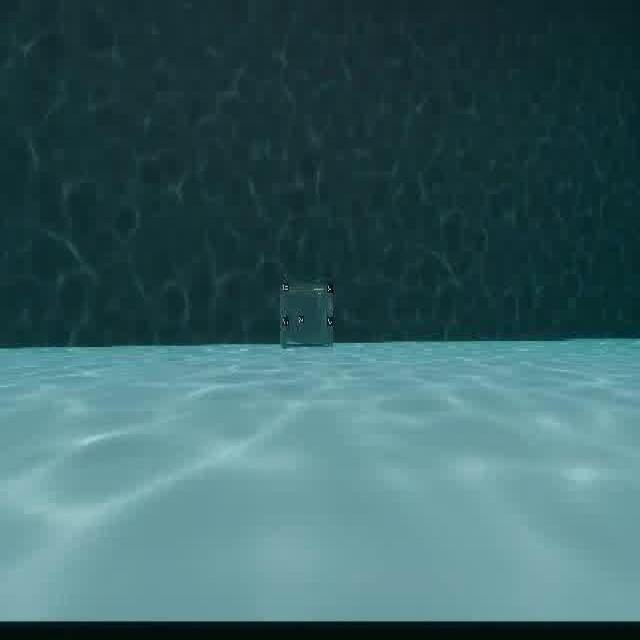Docking Station: (275, 272, 338, 354)
